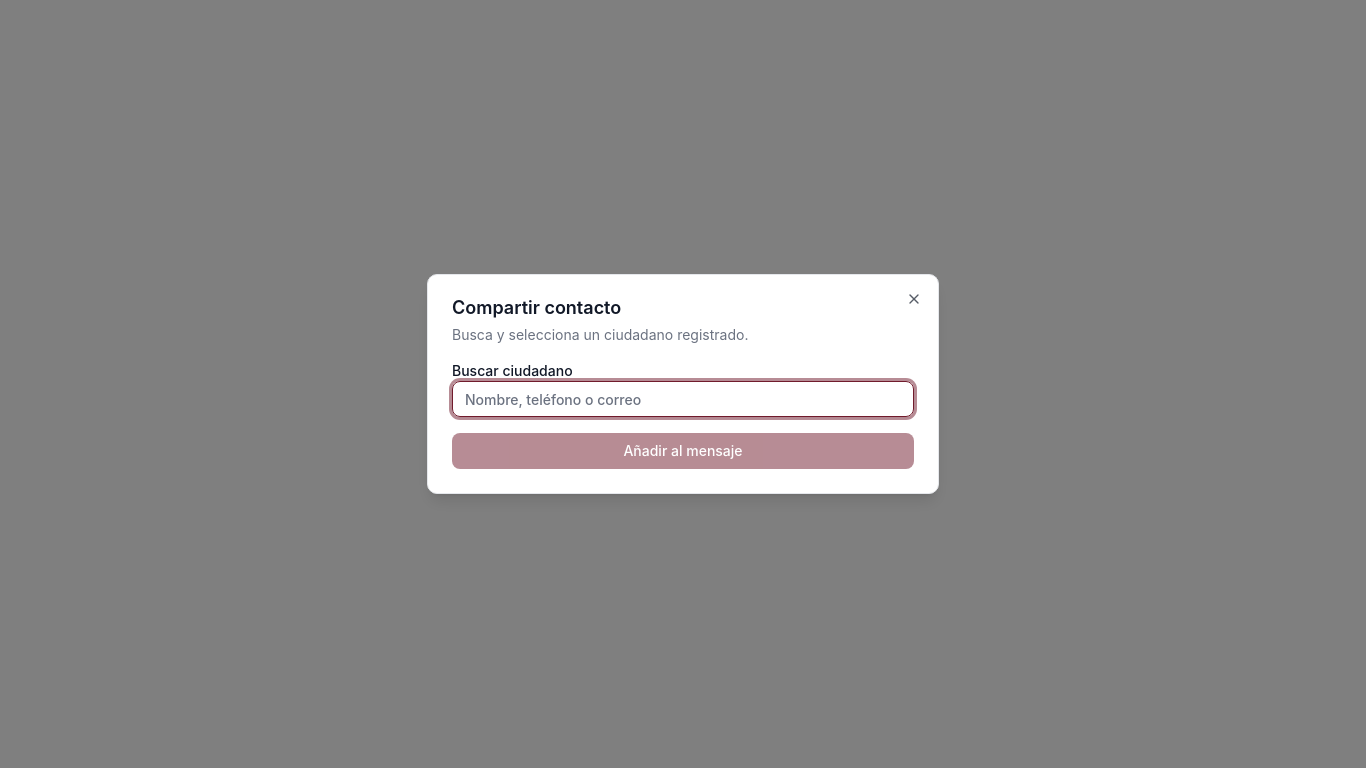
ContactEditor › searches citizens and submits only the selected citizen id
Later steps or results of the test are not shown.
In the field labelled "Buscar ciudadano": {"x": 683, "y": 399} [452, 381, 914, 417], type "Mar"
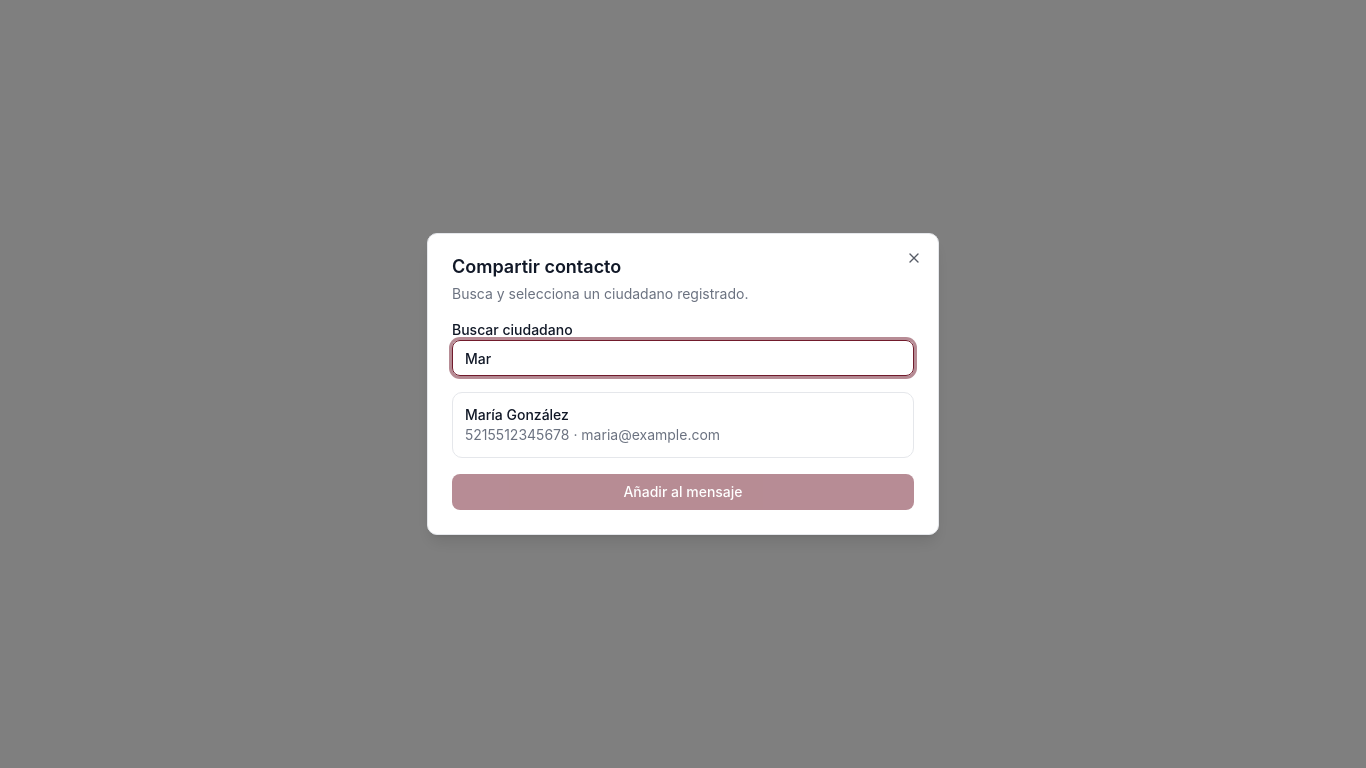
Click the option "María González 5215512345678 · maria@example.com": {"x": 683, "y": 425} [457, 397, 909, 453]
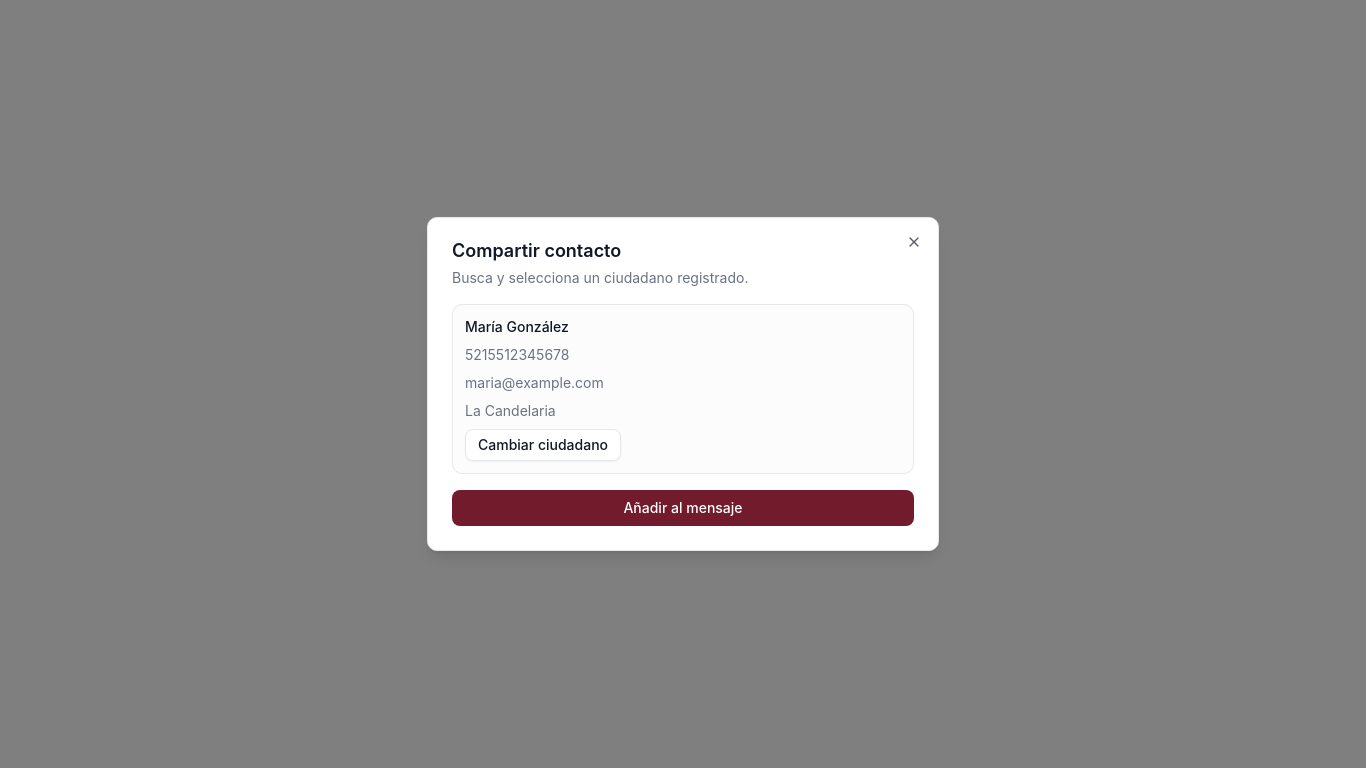
expect the text "maria@example.com" is shown: met, box [465, 374, 604, 391]
